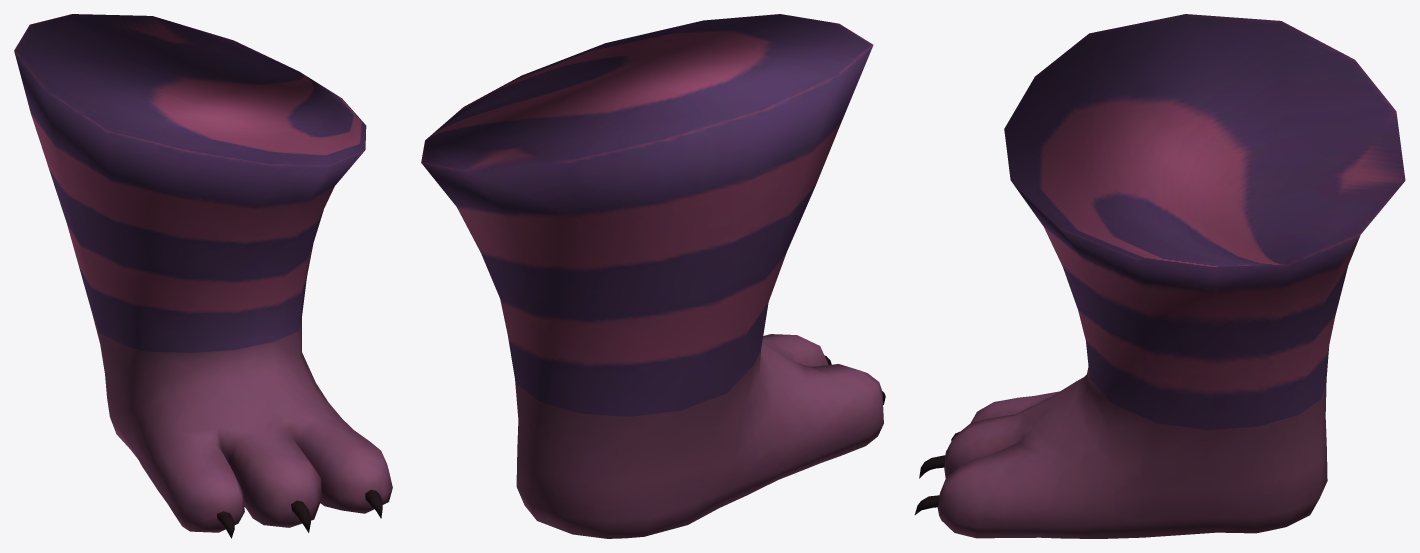
The model's file is right_leg.obj.
The picture shows the model from 3 angles, left to right: view 1: azimuth 30°, elevation 25°; view 2: azimuth 150°, elevation 25°; view 3: azimuth 270°, elevation 25°; orthographic projection. The views are drawn at different scales.
Parts seen in each view (by area): view 1: Bip001 Pelvis, Bip001 R Calf, Bip001 R Thigh, Bip001 R Foot, Bip001 R Toe11, Bip001 R Toe01, Bip001 R Toe21, Bip001 R Toe0, Bip001 R Toe1, Bip001 R Toe2; view 2: Bip001 R Thigh, Bip001 R Calf, Bip001 Pelvis, Bip001 R Foot, Bip001 R Toe0, Bip001 R Toe01, Bip001 R Toe1; view 3: Bip001 Pelvis, Bip001 R Foot, Bip001 R Calf, Bip001 R Thigh, Bip001 R Toe2, Bip001 R Toe21, Bip001 R Toe11, Bip001 R Toe1.
Boxes of the visible parts, <box> form: Bip001 Pelvis: <box>14,14,366,165</box>; Bip001 R Calf: <box>49,170,323,352</box>; Bip001 R Thigh: <box>14,51,364,242</box>; Bip001 R Foot: <box>92,315,369,500</box>; Bip001 R Toe11: <box>246,456,321,532</box>; Bip001 R Toe01: <box>174,467,244,538</box>; Bip001 R Toe21: <box>322,448,392,518</box>; Bip001 R Toe0: <box>156,443,230,513</box>; Bip001 R Toe1: <box>235,439,313,517</box>; Bip001 R Toe2: <box>303,436,380,505</box>; Bip001 R Thigh: <box>421,45,873,269</box>; Bip001 R Calf: <box>481,185,815,416</box>; Bip001 Pelvis: <box>421,14,873,171</box>; Bip001 R Foot: <box>515,339,848,538</box>; Bip001 R Toe0: <box>805,365,872,455</box>; Bip001 R Toe01: <box>826,364,885,445</box>; Bip001 R Toe1: <box>763,336,818,366</box>; Bip001 Pelvis: <box>1004,14,1405,266</box>; Bip001 R Foot: <box>993,366,1327,538</box>; Bip001 R Calf: <box>1063,266,1347,430</box>; Bip001 R Thigh: <box>1011,181,1360,324</box>; Bip001 R Toe2: <box>975,454,1040,538</box>; Bip001 R Toe21: <box>914,459,978,537</box>; Bip001 R Toe11: <box>919,419,985,478</box>; Bip001 R Toe1: <box>982,414,1014,456</box>.
Bounding box in the file's own units: 0.2344 × 0.2909 × 0.3109.
